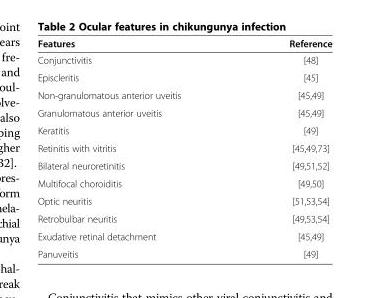table: (36, 37, 331, 259)
table column: (36, 37, 234, 259), (234, 37, 331, 259)
table column header: (36, 37, 331, 51)
table row: (36, 68, 331, 86), (36, 103, 331, 121), (36, 121, 331, 139), (36, 156, 331, 174), (36, 191, 331, 209), (36, 209, 331, 227), (36, 51, 331, 68), (36, 86, 331, 103), (36, 139, 331, 156), (36, 174, 331, 191), (36, 227, 331, 244), (36, 244, 331, 259), (36, 37, 331, 51)
